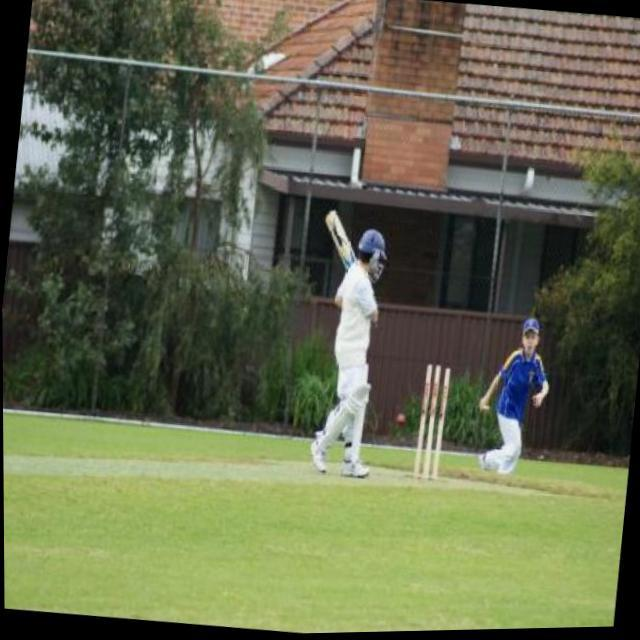-: (392, 399, 410, 442)
